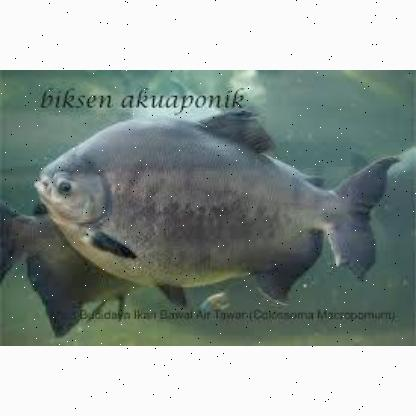ikan-pacu: (34, 115, 392, 287)
